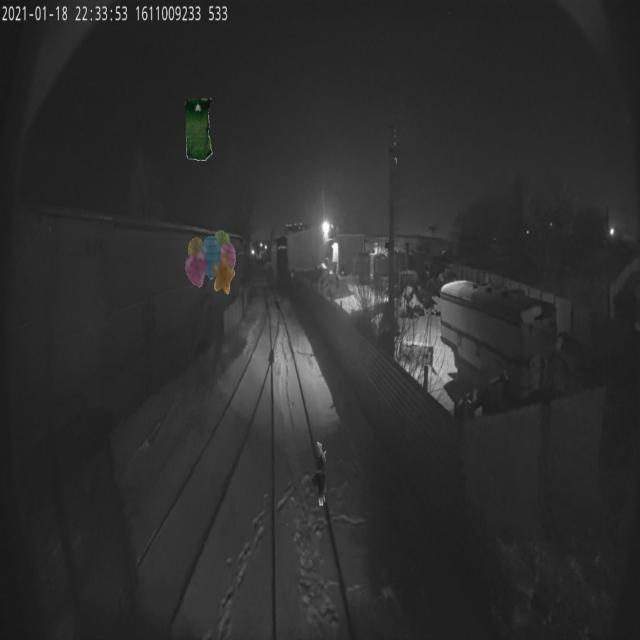balloon: (185, 230, 237, 294)
floating object: (311, 442, 326, 506)
plastic bag: (185, 96, 213, 160)
